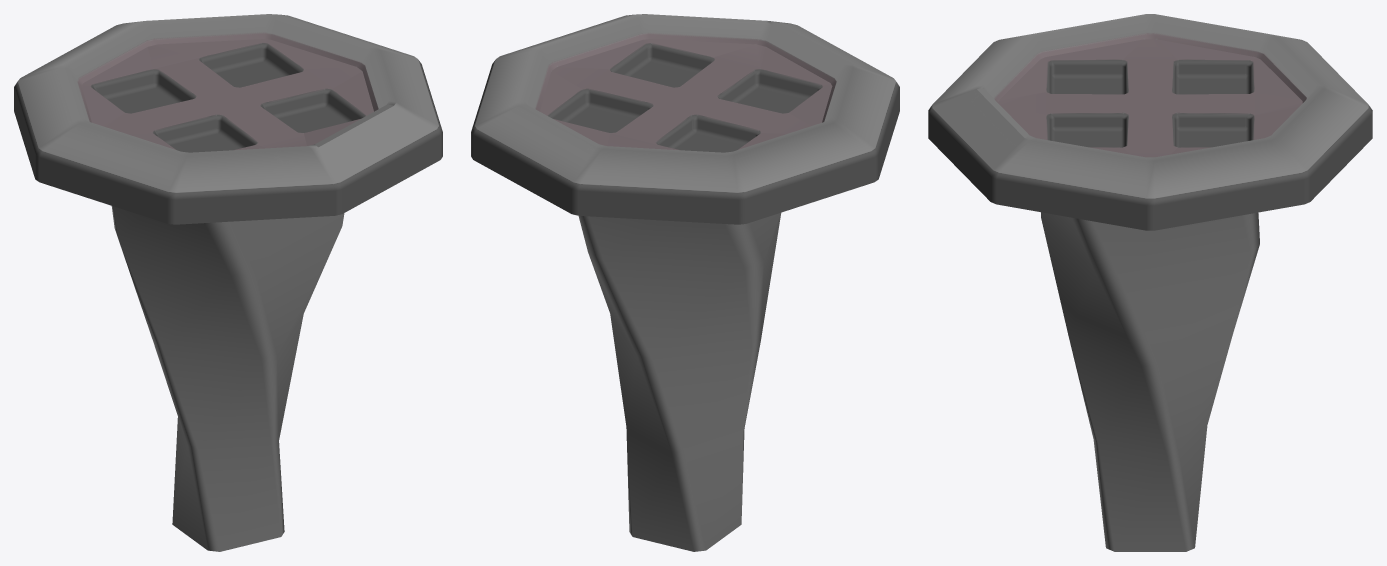
File: barriere_fer_2.FBX
3 views of the same model, side by side, from view 1: azimuth 30°, elevation 25°; view 2: azimuth 150°, elevation 25°; view 3: azimuth 270°, elevation 25° (orthographic).
Parts seen in each view (by area): view 1: Box003; view 2: Box003; view 3: Box003.
Part boxes in pixels (x1=…): Box003: x1=14, y1=14, x2=442, y2=551; Box003: x1=471, y1=14, x2=899, y2=551; Box003: x1=928, y1=14, x2=1372, y2=551.
Size of the model in its own units: 49.85 by 55.25 by 49.85.
